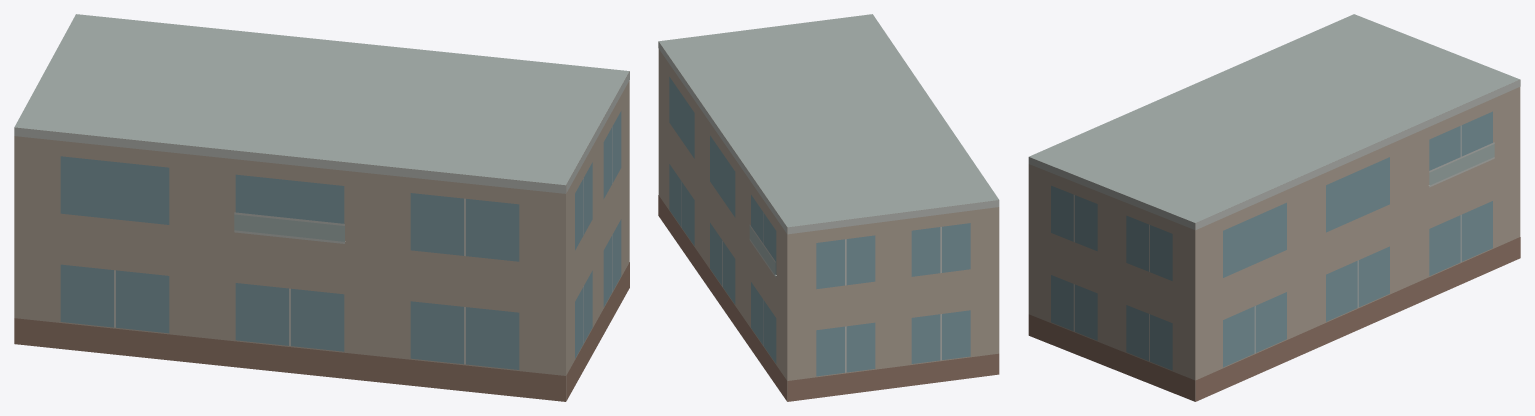
Rendered from survey-upis-32960846.glb.
The picture shows the model from 3 angles, left to right: view 1: azimuth 30°, elevation 25°; view 2: azimuth 150°, elevation 25°; view 3: azimuth 270°, elevation 25°; orthographic projection. The views are drawn at different scales.
Visible parts, largest first — view 1: survey-upis-32960846.tmp; view 2: survey-upis-32960846.tmp; view 3: survey-upis-32960846.tmp.
Part boxes in pixels (x1,y1,x2,y2): survey-upis-32960846.tmp: [14, 14, 629, 401]; survey-upis-32960846.tmp: [658, 14, 999, 401]; survey-upis-32960846.tmp: [1028, 14, 1520, 401].
Size of the model in its own units: 15.31 by 6.1 by 15.22.
